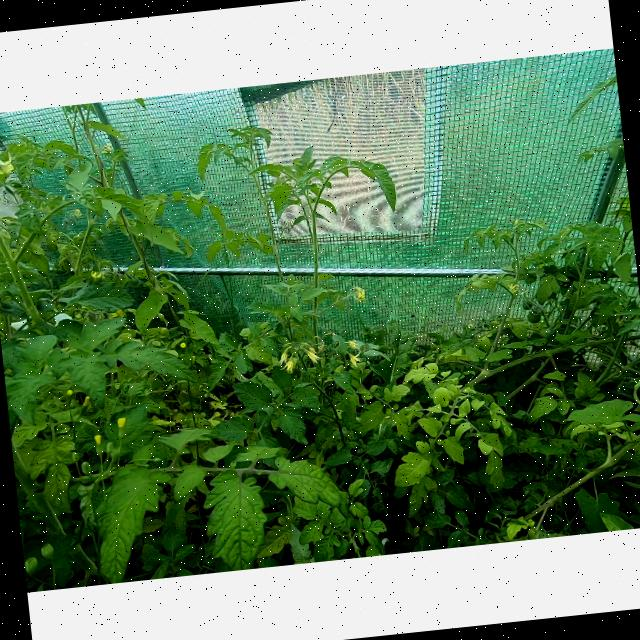Flowers: (302, 342, 324, 366), (342, 349, 366, 368), (348, 285, 367, 303), (280, 358, 298, 374), (276, 346, 288, 366), (344, 340, 358, 350)
